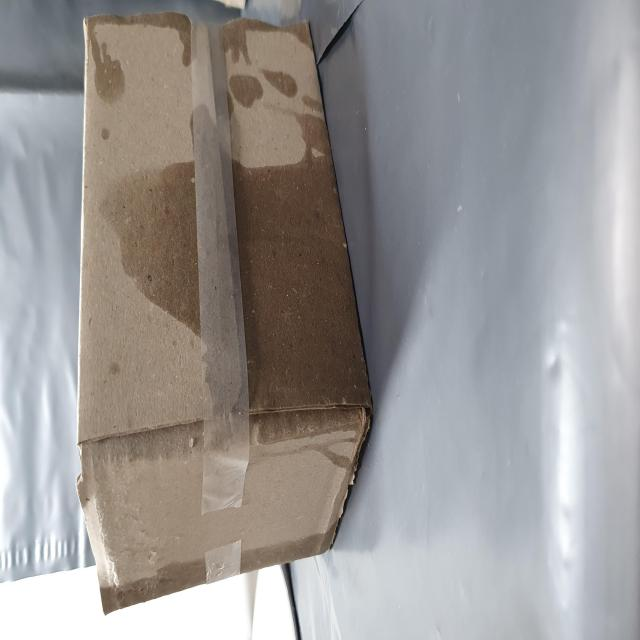wet: (124, 177, 277, 640)
